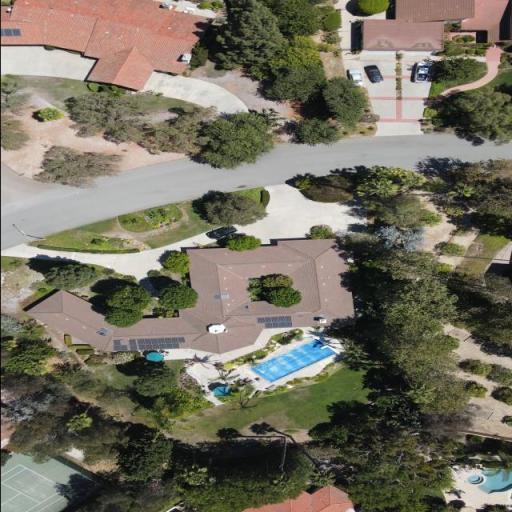solar-panel: (137, 337, 184, 350), (256, 316, 292, 329), (94, 327, 112, 337), (111, 340, 127, 351), (0, 29, 20, 37), (128, 339, 136, 350), (212, 295, 228, 299)
